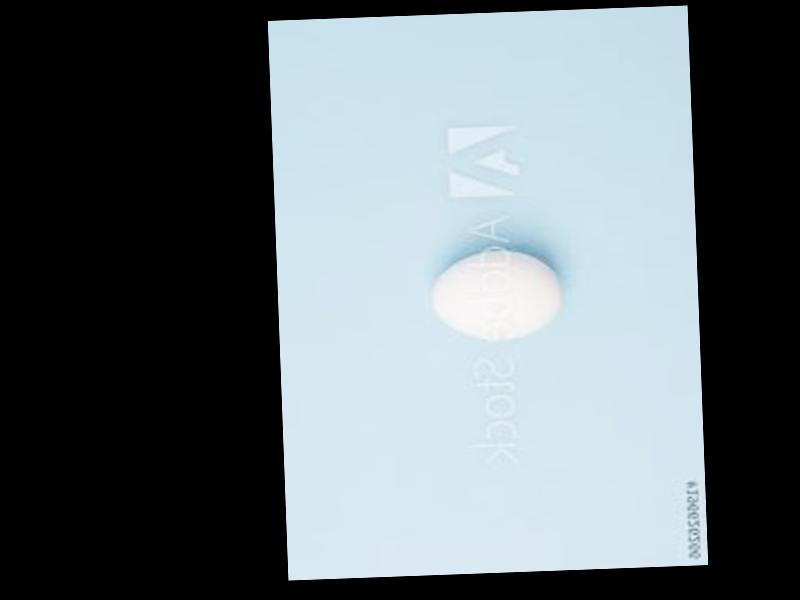Eggs: (432, 248, 562, 341)
